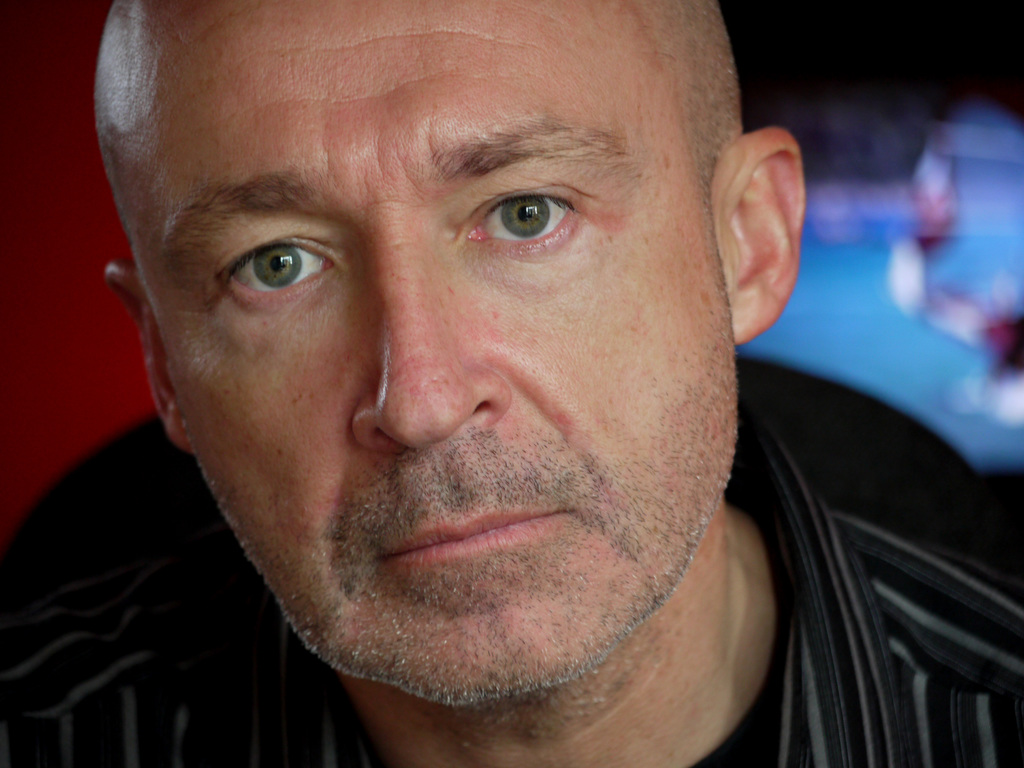Human-face: (92, 0, 785, 710)
